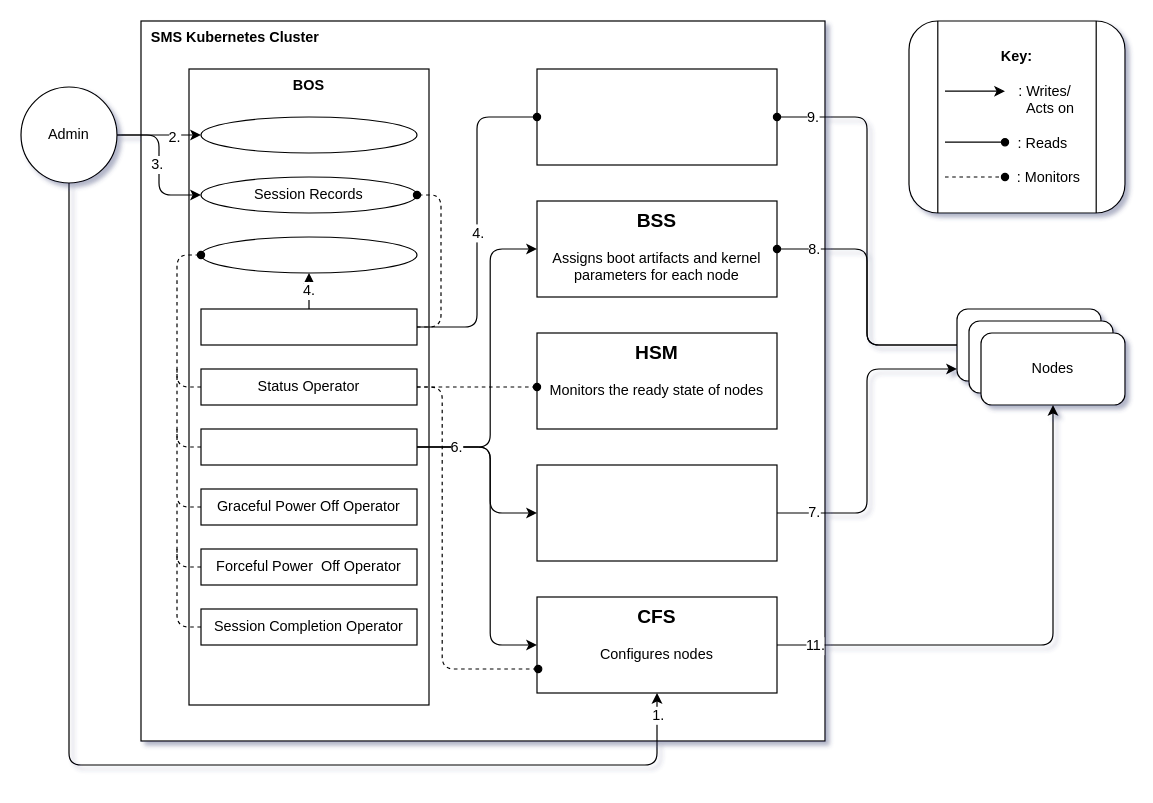
This 1153x803 diagram has some shape labels left out. Each missing label, with the centre of its shape:
"CAPMC Sends power commands to the nodes" belongs at point (656, 512).
"Component Records" belongs at point (308, 254).
"Power On Operator" belongs at point (308, 446).
"S3 Stores the boot artifacts" belongs at point (656, 116).
"Session Setup Operator" belongs at point (308, 326).
"Session Templates" belongs at point (308, 134).
